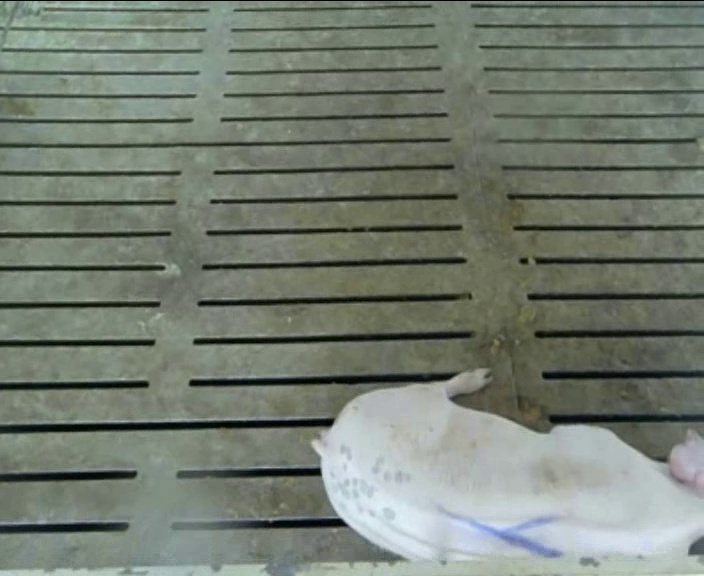pig: (313, 369, 703, 558)
